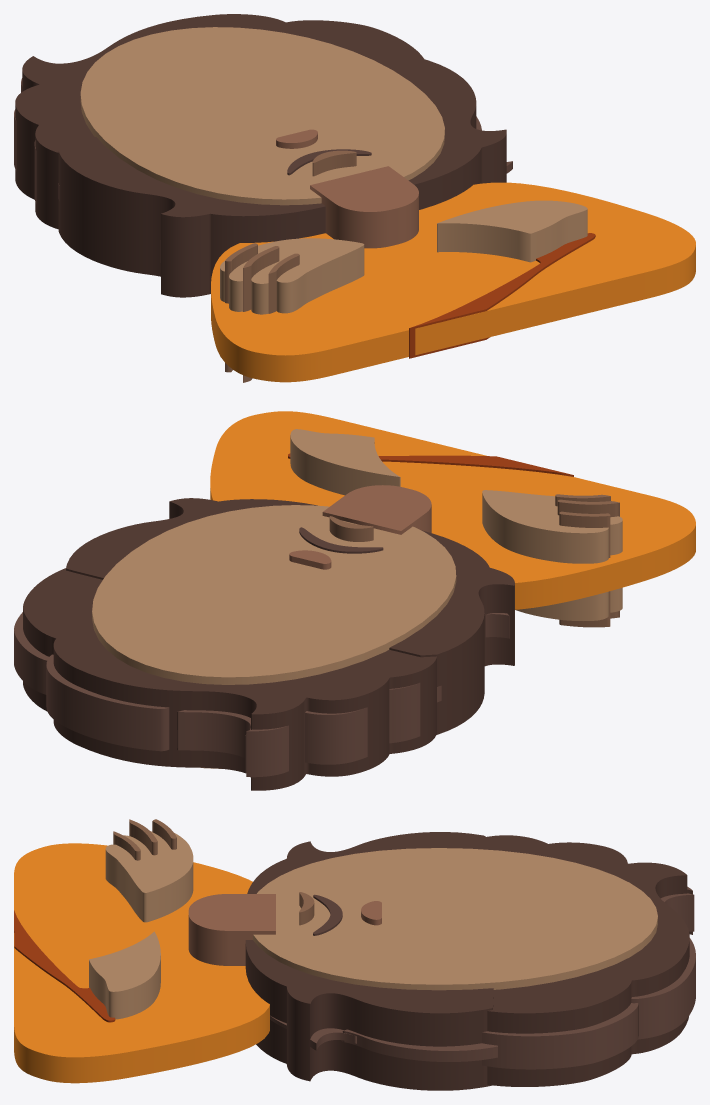
File: emoji_u1f64e_1f3fd.glb
The picture shows the model from 3 angles, top to bottom: view 1: azimuth 30°, elevation 25°; view 2: azimuth 150°, elevation 25°; view 3: azimuth 270°, elevation 25°; orthographic projection. The views are drawn at different scales.
Visible parts, largest first — view 1: emoji_u1f64e_1f3fd; view 2: emoji_u1f64e_1f3fd; view 3: emoji_u1f64e_1f3fd.
Boxes of the visible parts, x1,y1,x2,y2 form: emoji_u1f64e_1f3fd: (14, 14, 695, 382); emoji_u1f64e_1f3fd: (14, 411, 695, 790); emoji_u1f64e_1f3fd: (14, 819, 695, 1090).
Bounding box in the file's own units: 0.0249 × 0.0062 × 0.0335.
